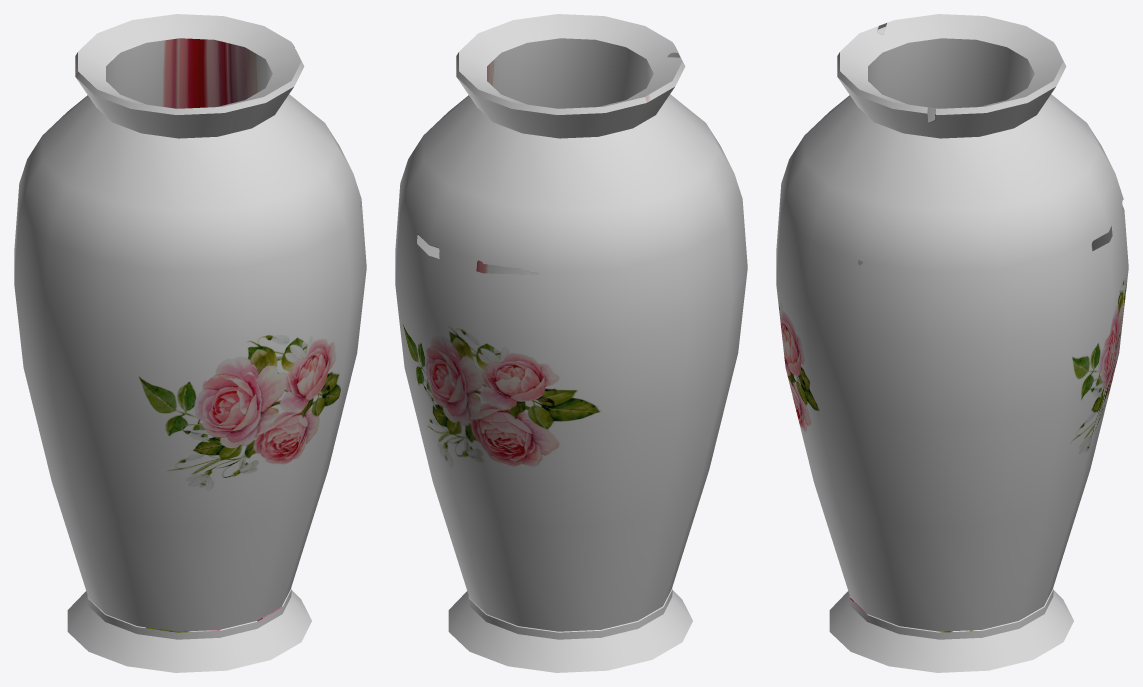
File: Jarron 1.fbx
The picture shows the model from 3 angles, left to right: view 1: azimuth 30°, elevation 25°; view 2: azimuth 150°, elevation 25°; view 3: azimuth 270°, elevation 25°; orthographic projection.
Visible parts, largest first — view 1: Cylinder; view 2: Cylinder; view 3: Cylinder.
Boxes of the visible parts, box(x1,y1,x2,y2) form: Cylinder: box(14, 14, 366, 672); Cylinder: box(395, 14, 747, 672); Cylinder: box(776, 14, 1128, 672).
Size of the model in its own units: 77.8 by 136 by 77.38.
